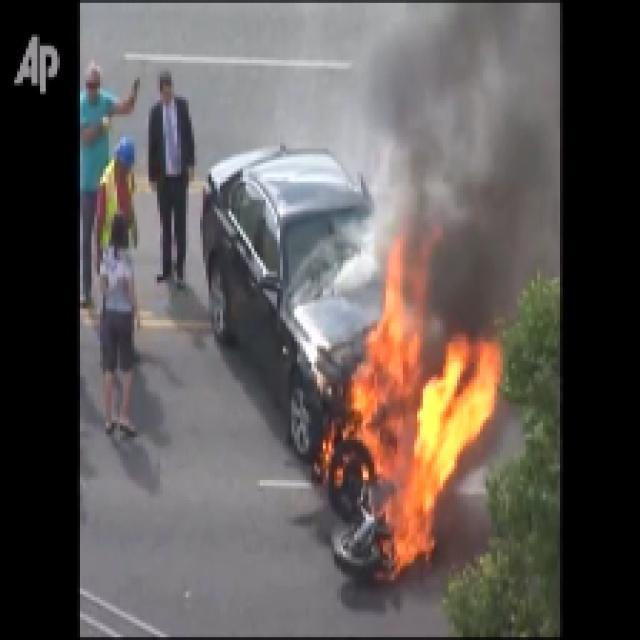Fire: (422, 357, 486, 527), (363, 279, 408, 433)
Smoke: (394, 51, 558, 276)
